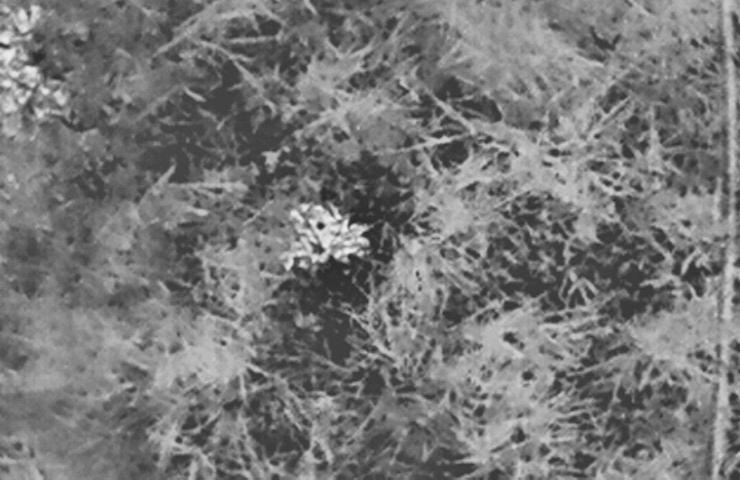landmines: (281, 194, 372, 280)
